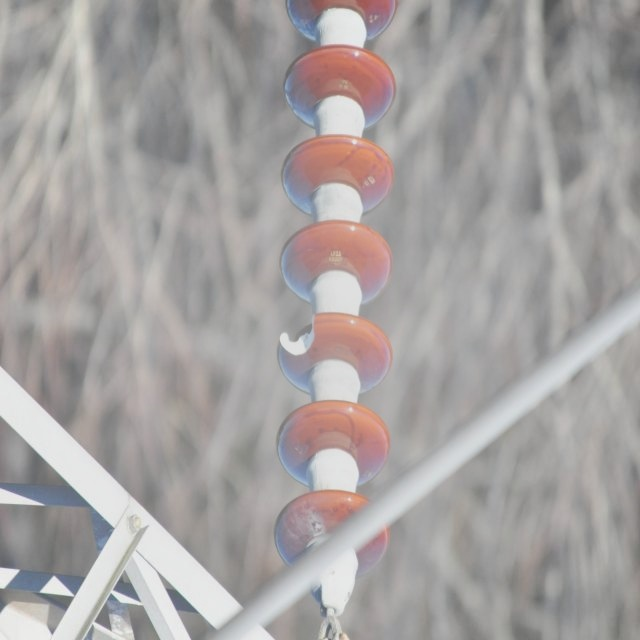broken: (278, 312, 318, 356)
insulator: (273, 0, 396, 575)
